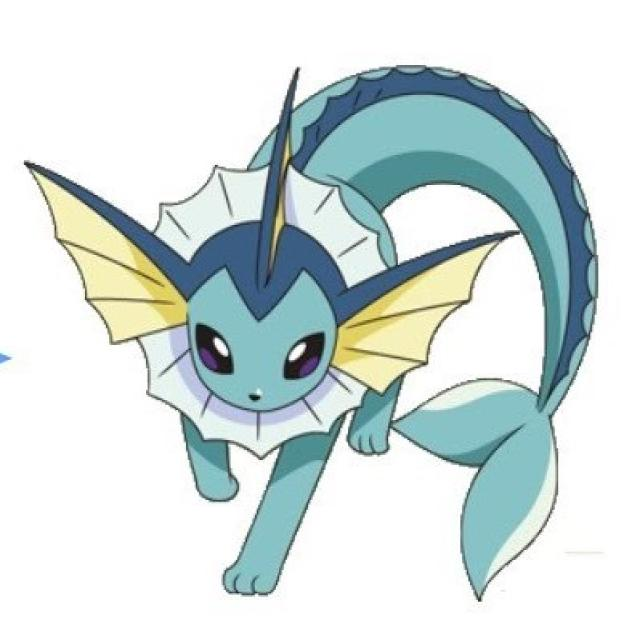Vaporeon: (103, 85, 475, 588)
